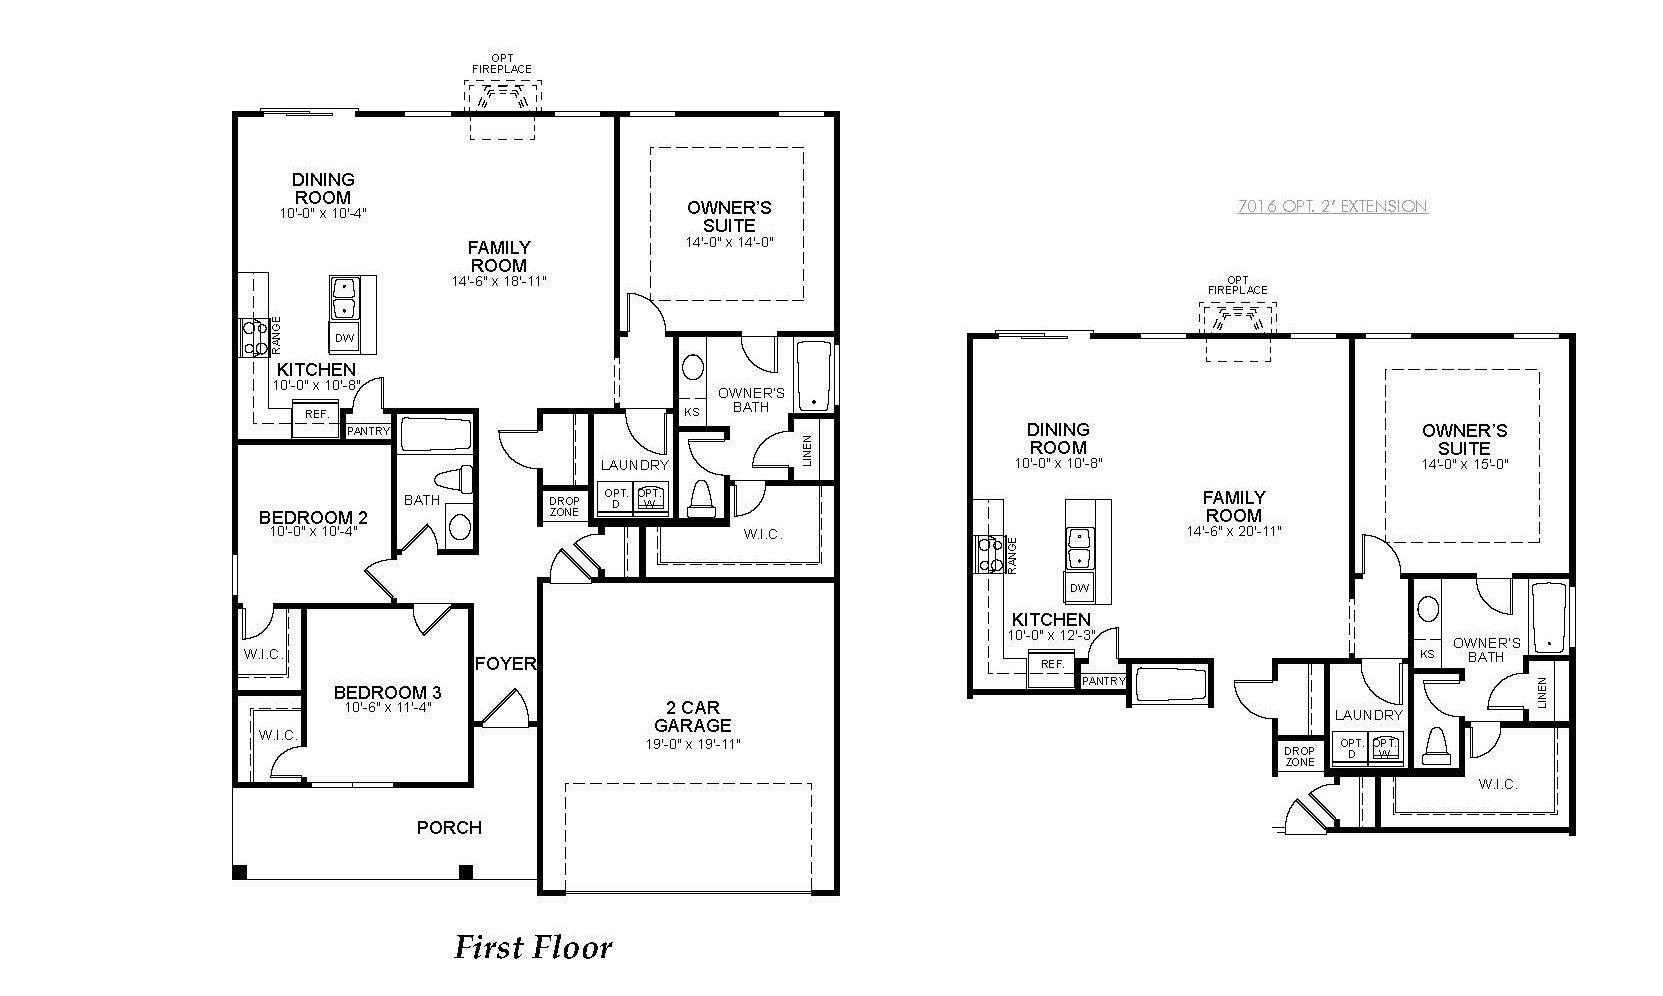room: (972, 333, 1354, 694), (236, 111, 618, 409), (541, 580, 837, 893), (1352, 336, 1573, 575), (642, 333, 837, 581), (619, 114, 836, 333), (237, 604, 472, 786), (236, 442, 396, 605), (1411, 575, 1573, 669), (395, 411, 475, 553), (591, 410, 676, 522), (1328, 660, 1411, 771), (1413, 671, 1461, 771), (1526, 656, 1573, 721)
